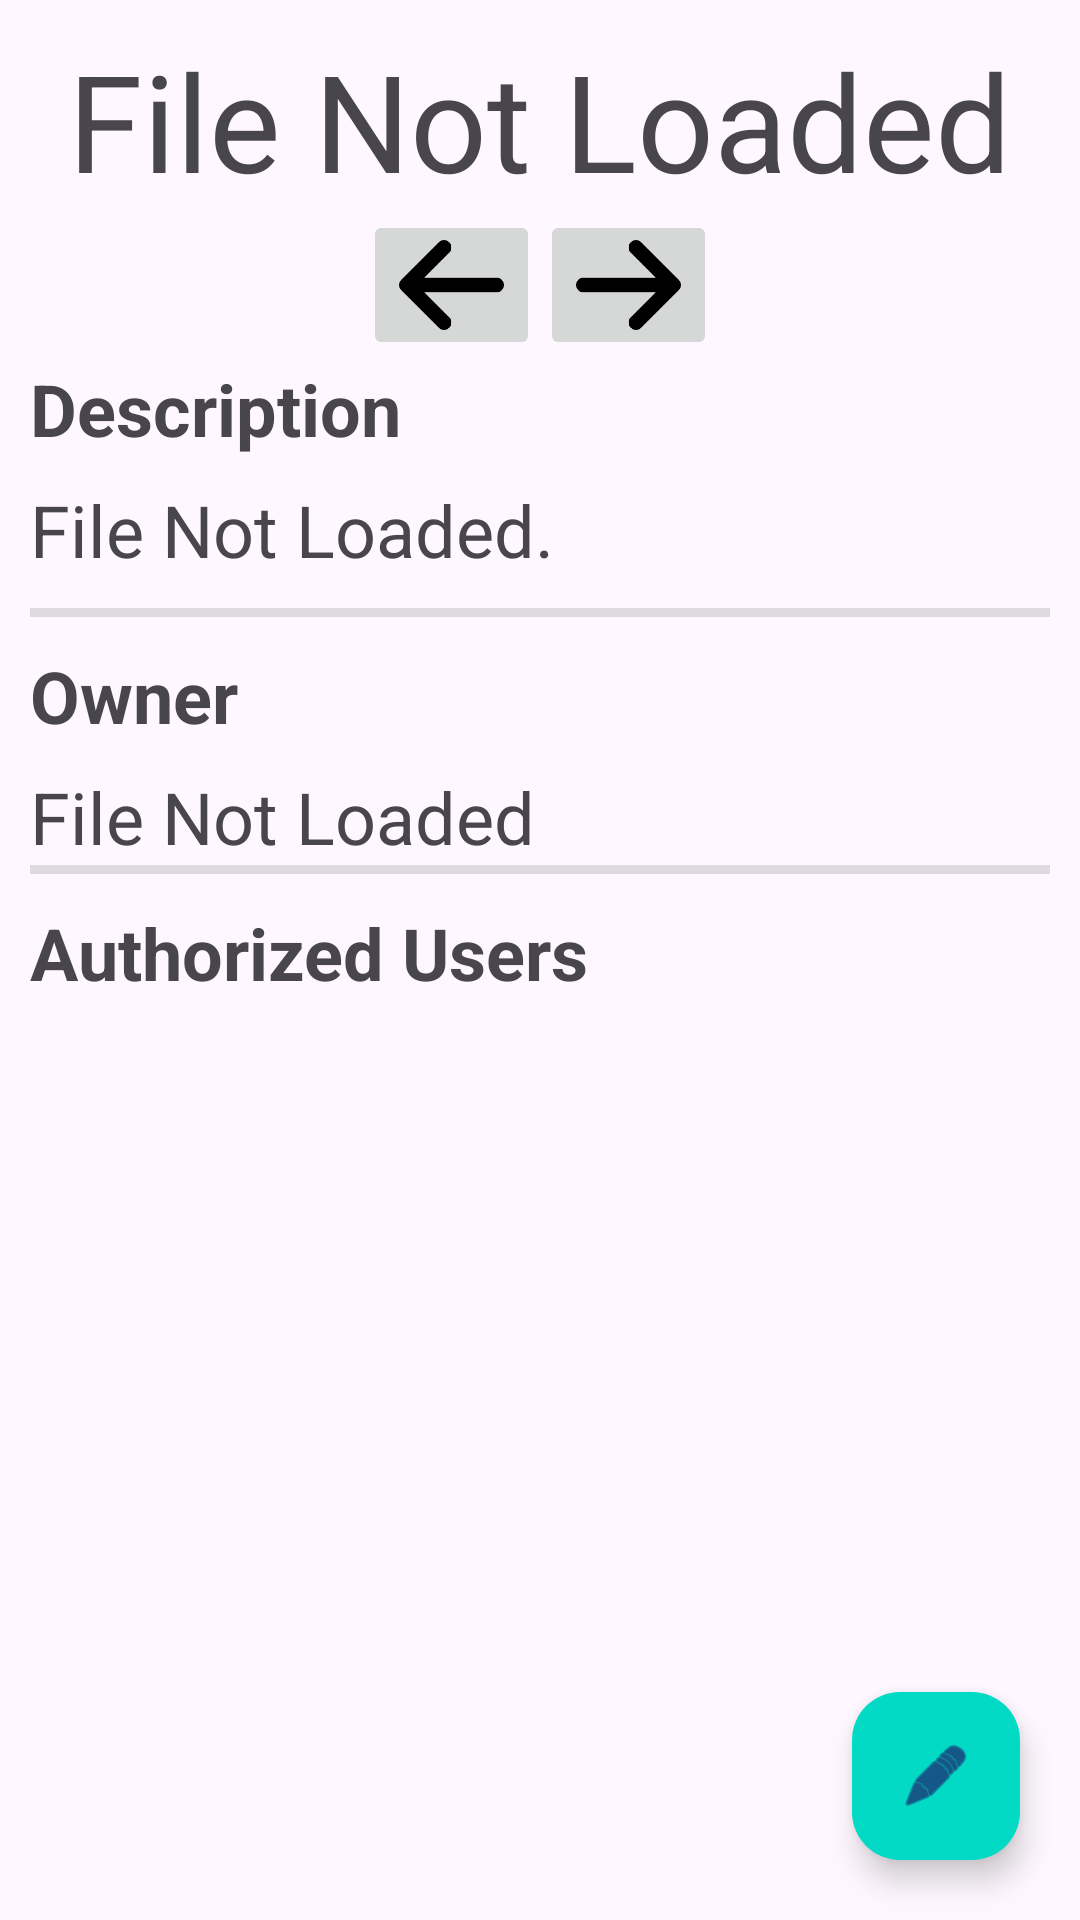

Locate icon controls on the screen. Image size 1080 × 1920, boxes as Rect(x1, y1, x2, y2).
edit: Rect(852, 1692, 1020, 1860)
